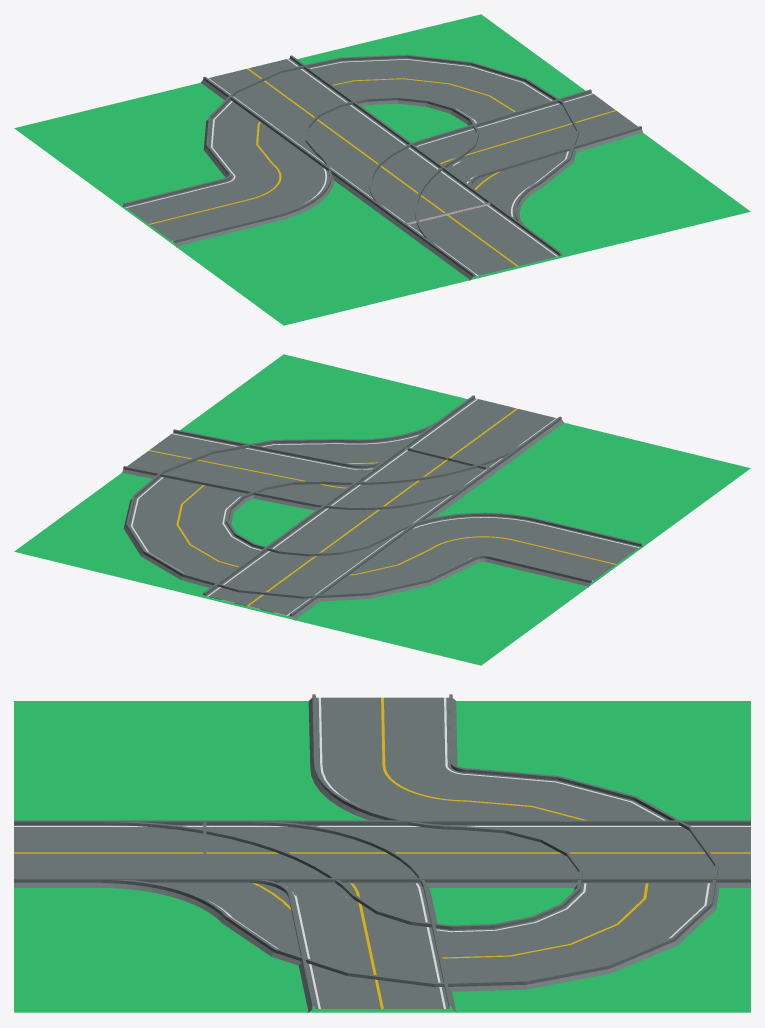
File: TrackTiles.fbx
The picture shows the model from 3 angles, top to bottom: view 1: azimuth 30°, elevation 25°; view 2: azimuth 150°, elevation 25°; view 3: azimuth 270°, elevation 25°; orthographic projection. The views are drawn at different scales.
Visible parts, largest first — view 1: RoadTurnRight, RoadStraight, RoadTurnLeft, RoadEnd; view 2: RoadStraight, RoadTurnRight, RoadTurnLeft, RoadEnd; view 3: RoadTurnRight, RoadStraight, RoadTurnLeft.
Part boxes in pixels (left/top/right/bottom): RoadTurnRight: left=14, top=15, right=727, bottom=325; RoadStraight: left=38, top=14, right=750, bottom=323; RoadTurnLeft: left=122, top=54, right=579, bottom=280; RoadEnd: left=205, top=56, right=490, bottom=224; RoadStraight: left=14, top=354, right=746, bottom=665; RoadTurnRight: left=42, top=355, right=750, bottom=665; RoadTurnLeft: left=123, top=422, right=642, bottom=601; RoadEnd: left=203, top=447, right=489, bottom=620; RoadTurnRight: left=14, top=701, right=750, bottom=1012; RoadStraight: left=14, top=701, right=750, bottom=1012; RoadTurnLeft: left=100, top=694, right=719, bottom=991.
Size of the model in its own units: 18798 by 226 by 18787.
